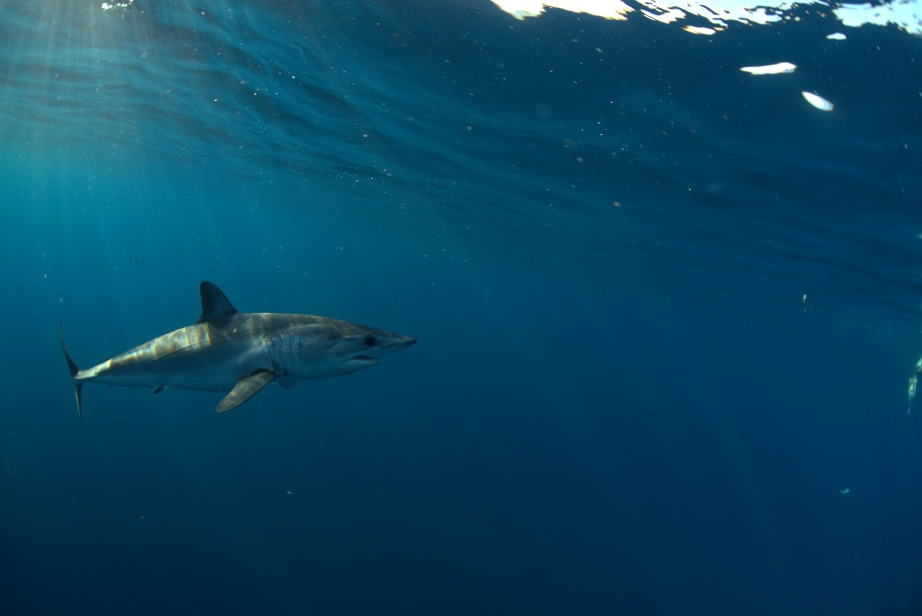Mako: (46, 271, 427, 433)
